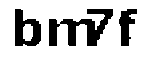7: (95, 5, 117, 41)
b: (10, 5, 42, 51)
f: (117, 6, 143, 52)
m: (46, 18, 96, 48)
